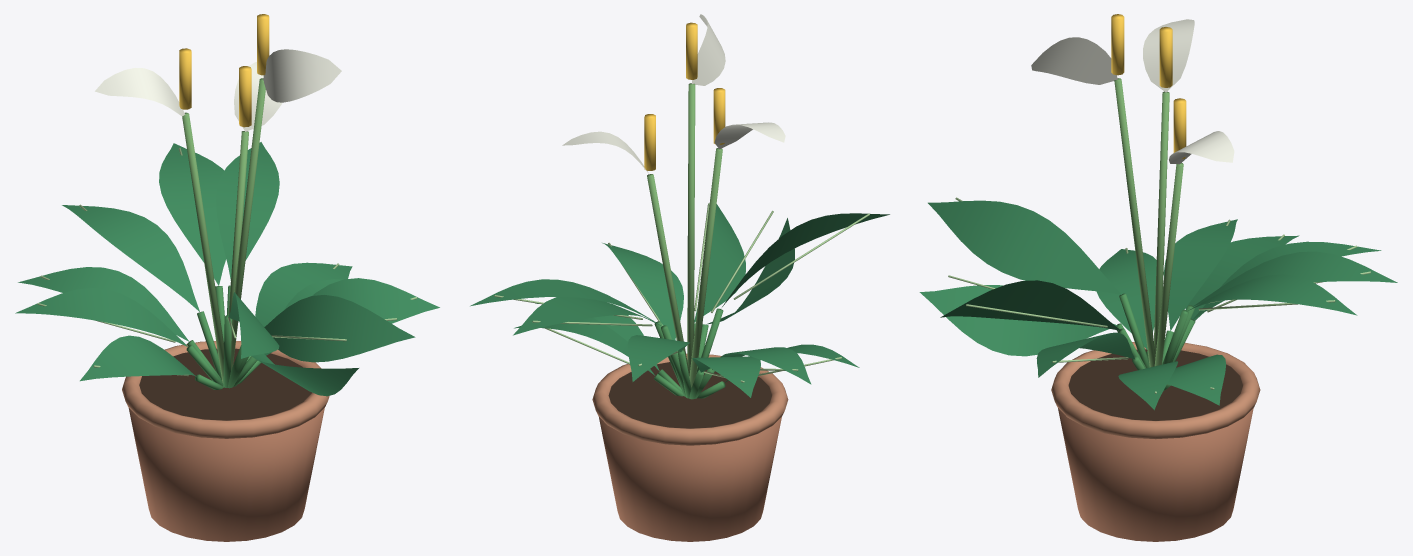
File: peace_lily.glb
3 views of the same model, side by side, from view 1: azimuth 30°, elevation 25°; view 2: azimuth 150°, elevation 25°; view 3: azimuth 270°, elevation 25° (orthographic). The views are drawn at different scales.
Parts seen in each view (by area): view 1: pot_static, soil_static, leaf_g620_peace_10, pot_rim_static, leaf_g400_peace_6, leaf_g675_peace_11, leaf_g235_peace_3, leaf_g565_peace_9, leaf_g860_peace_flower_2, leaf_g290_peace_4, leaf_g125_peace_1, leaf_g345_peace_5 (+13 smaller); view 2: pot_static, soil_static, pot_rim_static, leaf_g620_peace_10, leaf_g345_peace_5, leaf_g455_peace_7, leaf_g675_peace_11, flower_stem_g860_peace_2, leaf_g235_peace_3, flower_stem_g780_peace_1, leaf_g400_peace_6, leaf_g125_peace_1 (+12 smaller); view 3: pot_static, leaf_g455_peace_7, soil_static, pot_rim_static, leaf_g180_peace_2, leaf_g620_peace_10, leaf_g565_peace_9, leaf_g675_peace_11, leaf_g290_peace_4, leaf_g235_peace_3, leaf_g860_peace_flower_2, flower_stem_g860_peace_2 (+13 smaller).
Part boxes in pixels (bbox=[...]): pot_static: bbox=[128, 407, 324, 541]; soil_static: bbox=[139, 348, 311, 420]; leaf_g620_peace_10: bbox=[264, 295, 415, 362]; pot_rim_static: bbox=[122, 341, 329, 438]; leaf_g400_peace_6: bbox=[62, 205, 199, 311]; leaf_g675_peace_11: bbox=[159, 143, 226, 285]; leaf_g235_peace_3: bbox=[216, 142, 279, 280]; leaf_g565_peace_9: bbox=[15, 288, 187, 346]; leaf_g860_peace_flower_2: bbox=[263, 49, 341, 102]; leaf_g290_peace_4: bbox=[80, 335, 196, 381]; leaf_g125_peace_1: bbox=[18, 267, 189, 341]; leaf_g345_peace_5: bbox=[312, 278, 439, 323]; pot_static: bbox=[598, 416, 781, 541]; soil_static: bbox=[608, 362, 771, 428]; pot_rim_static: bbox=[592, 353, 788, 445]; leaf_g620_peace_10: bbox=[694, 204, 745, 322]; leaf_g345_peace_5: bbox=[602, 243, 683, 340]; leaf_g455_peace_7: bbox=[722, 213, 889, 306]; leaf_g675_peace_11: bbox=[513, 297, 662, 335]; flower_stem_g860_peace_2: bbox=[687, 83, 695, 372]; leaf_g235_peace_3: bbox=[470, 279, 654, 321]; flower_stem_g780_peace_1: bbox=[689, 148, 722, 388]; leaf_g400_peace_6: bbox=[627, 335, 689, 381]; leaf_g125_peace_1: bbox=[692, 356, 760, 397]; pot_static: bbox=[1058, 408, 1253, 541]; leaf_g455_peace_7: bbox=[928, 200, 1121, 294]; soil_static: bbox=[1068, 349, 1242, 420]; pot_rim_static: bbox=[1051, 342, 1260, 439]; leaf_g180_peace_2: bbox=[919, 285, 1117, 356]; leaf_g620_peace_10: bbox=[940, 280, 1120, 330]; leaf_g565_peace_9: bbox=[1163, 219, 1237, 330]; leaf_g675_peace_11: bbox=[1192, 251, 1397, 306]; leaf_g290_peace_4: bbox=[1096, 249, 1156, 349]; leaf_g235_peace_3: bbox=[1186, 274, 1357, 315]; leaf_g860_peace_flower_2: bbox=[1031, 37, 1117, 84]; flower_stem_g860_peace_2: bbox=[1114, 78, 1155, 367].
Size of the model in its own units: 0.7265 by 1.03 by 0.8928.
